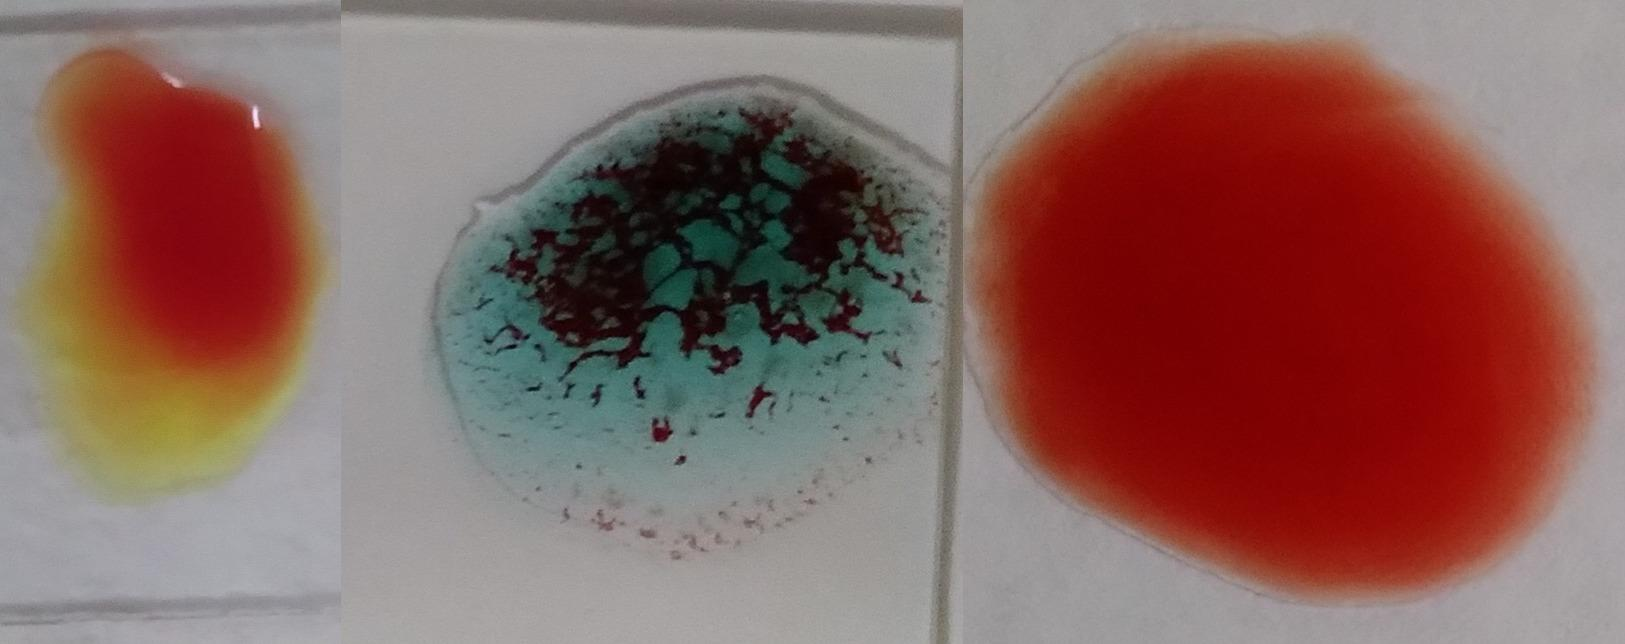A: (429, 71, 937, 544)
